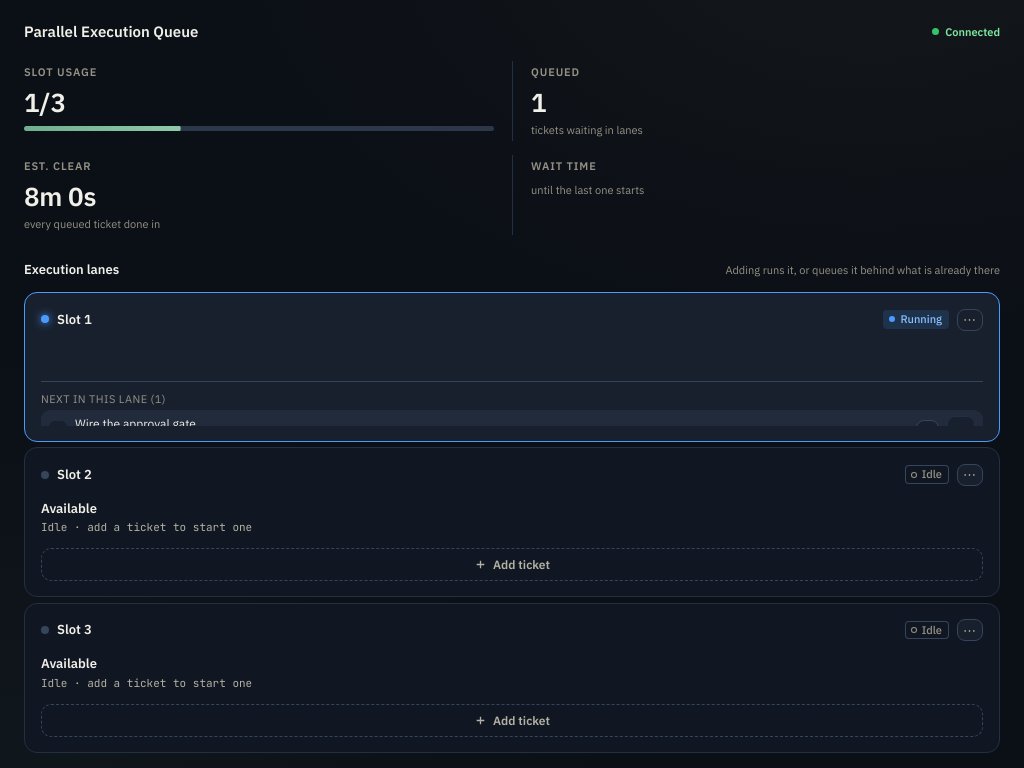
it: a running card’s overflow menu › an idle lane still has one, holding what applies to a lane
Click the button named "actions": coordinates (970, 475) [957,464,983,486]
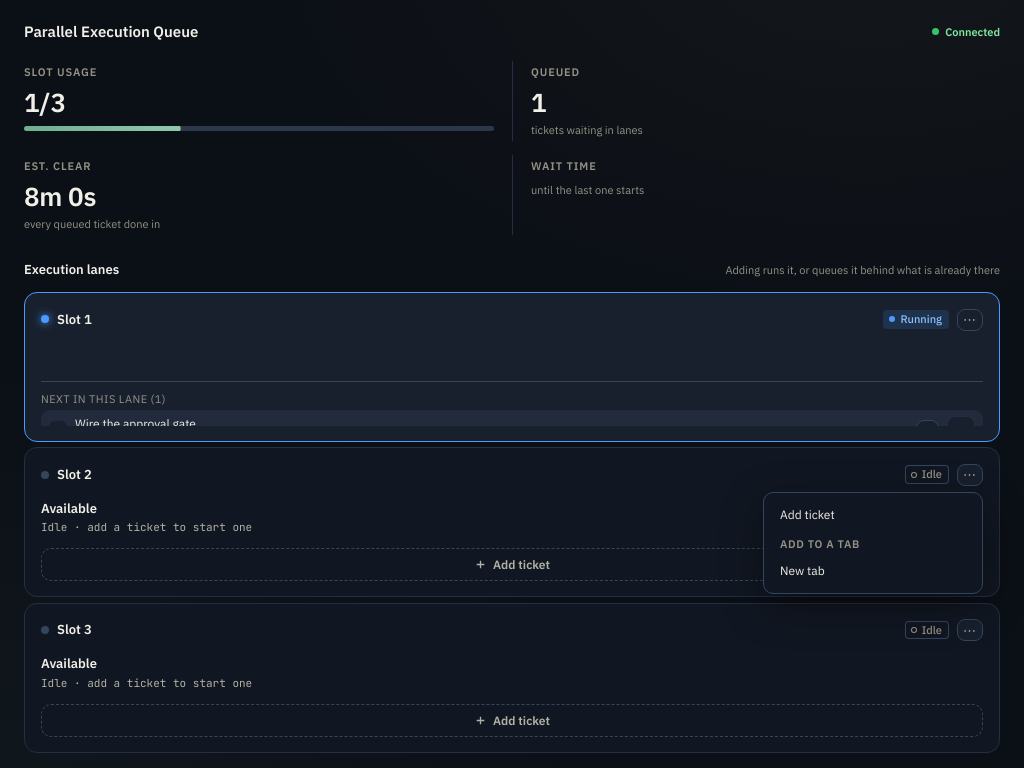
Check: the menu item "New tab" is shown, box [770,555,976,587]
